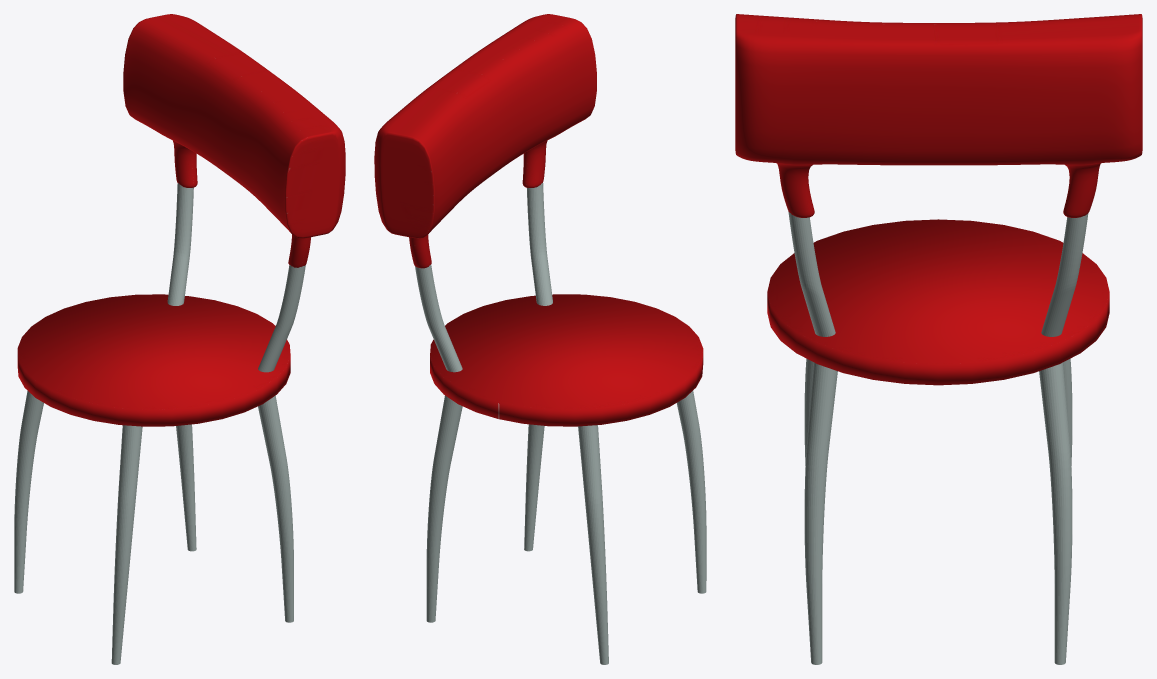
Rendered from SillaRocko.obj.
3 views of the same model, side by side, from view 1: azimuth 30°, elevation 25°; view 2: azimuth 150°, elevation 25°; view 3: azimuth 270°, elevation 25° (orthographic). The views are drawn at different scales.
Visible parts, largest first — view 1: SillaRocko:Mesh; view 2: SillaRocko:Mesh; view 3: SillaRocko:Mesh.
Part boxes in pixels (x1=…): SillaRocko:Mesh: x1=14, y1=14, x2=345, y2=664; SillaRocko:Mesh: x1=374, y1=14, x2=706, y2=664; SillaRocko:Mesh: x1=735, y1=14, x2=1142, y2=664.
Size of the model in its own units: 0.8512 by 1.73 by 1.
1 material, 1 textured.
